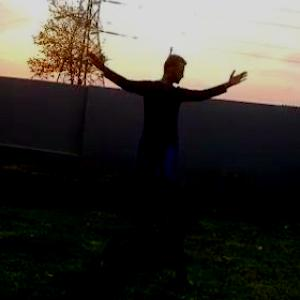takeoff: (90, 34, 262, 230)
